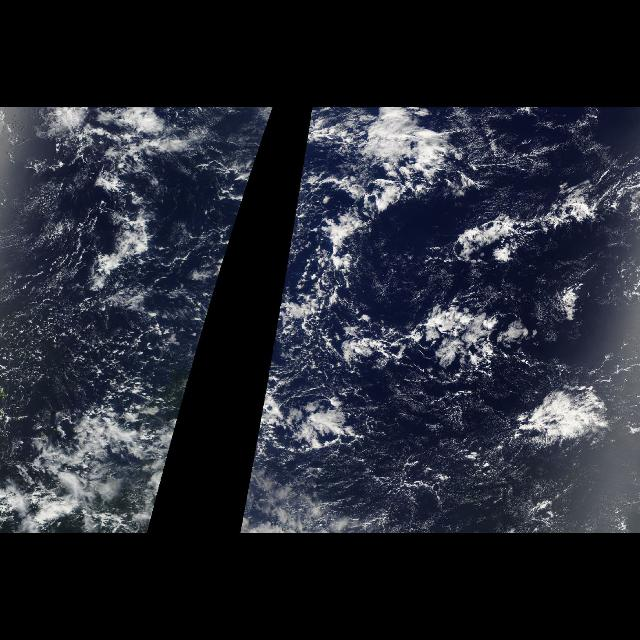Fish: (282, 113, 628, 467)
Gravel: (2, 227, 208, 478), (322, 452, 492, 526)
Sugar: (361, 384, 537, 532)
